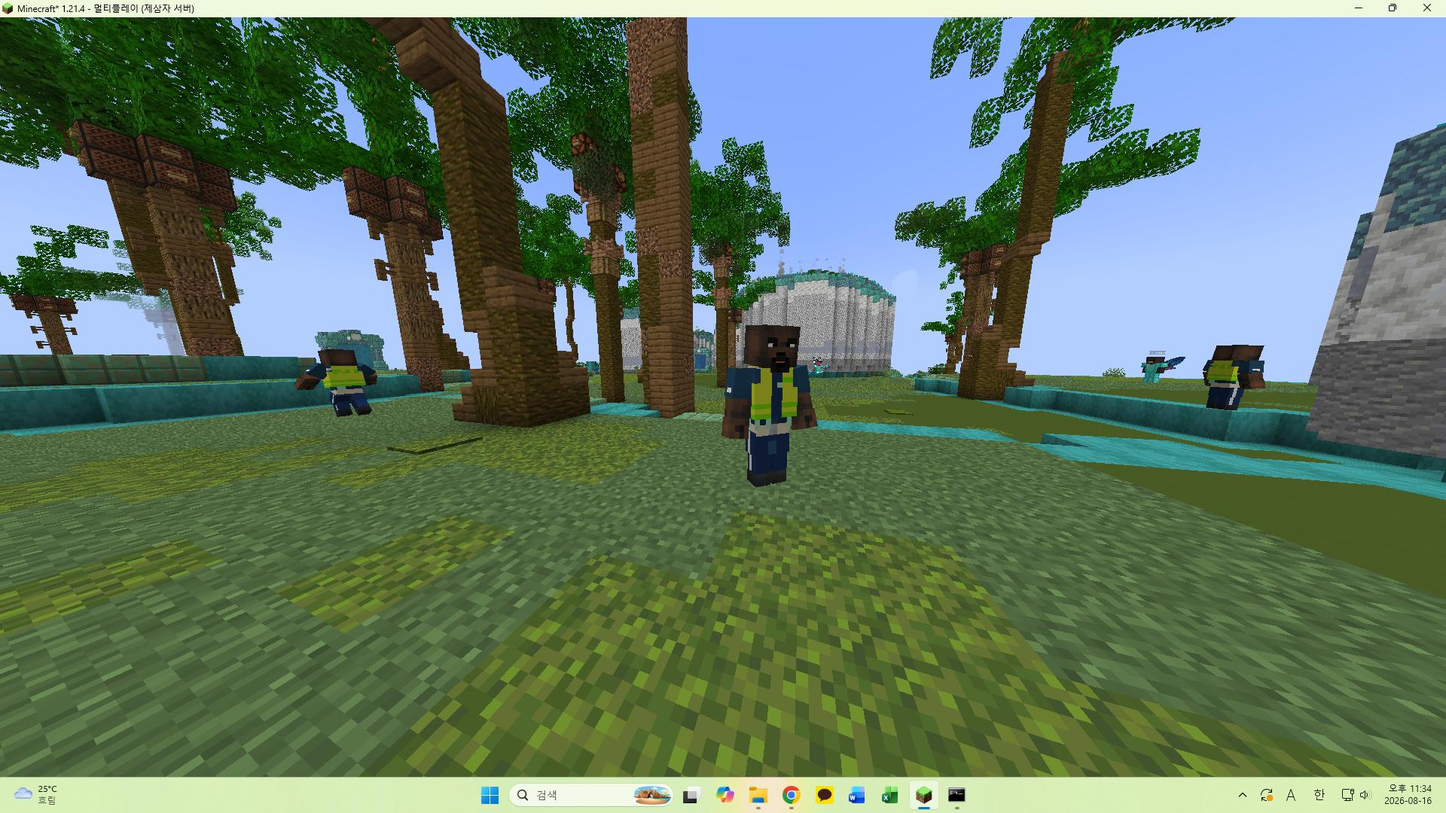Guardian: (723, 324, 816, 486), (295, 346, 377, 416), (1203, 346, 1264, 410)
